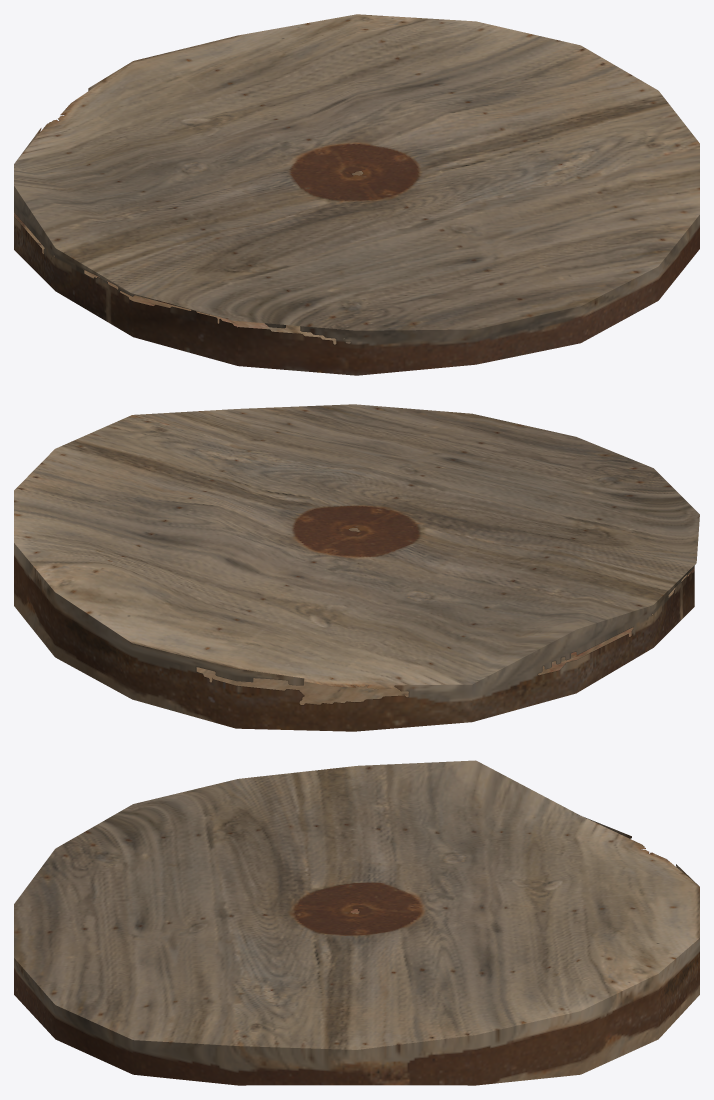
File: OU_AR_Wooden_Whell_01_D.fbx
3 renders of one model, top to bottom at view 1: azimuth 30°, elevation 25°; view 2: azimuth 150°, elevation 25°; view 3: azimuth 270°, elevation 25°, orthographic.
Parts seen in each view (by area): view 1: Cylinder003; view 2: Cylinder003; view 3: Cylinder003.
Part boxes in pixels (x1,y1,x2,y2): Cylinder003: (14, 14, 699, 375); Cylinder003: (14, 404, 699, 731); Cylinder003: (14, 760, 699, 1085).
Size of the model in its own units: 121 by 20.67 by 120.
1 material, 1 textured.
